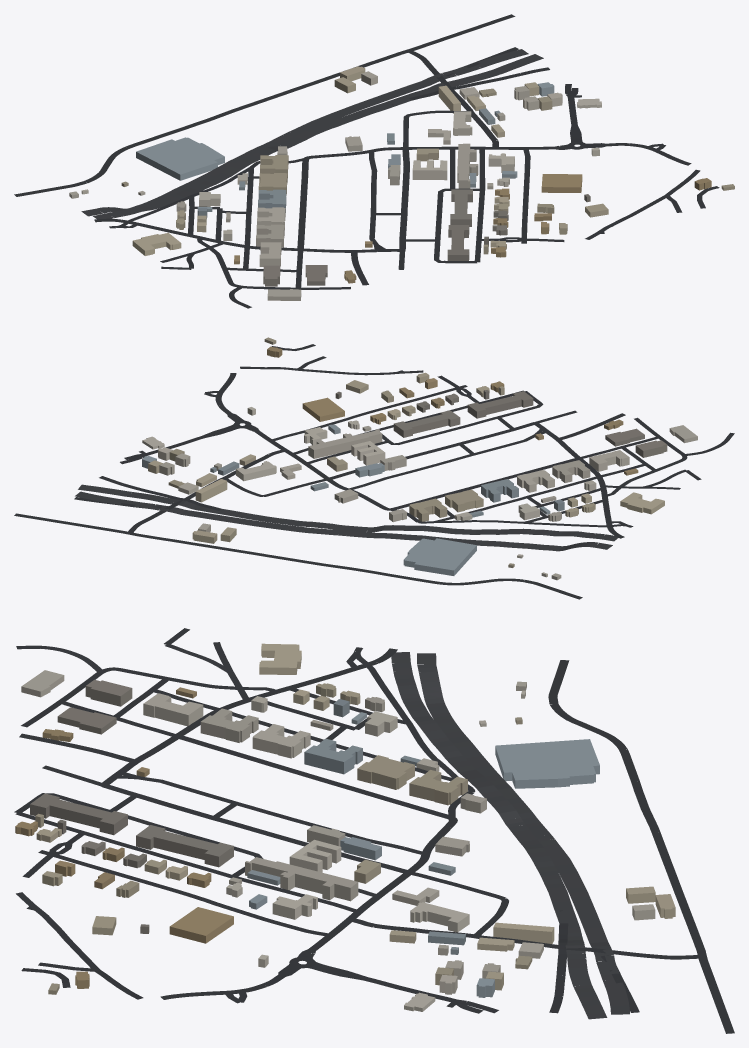
File: tile_7_9.glb
3 views of the same model, one above another, from view 1: azimuth 30°, elevation 25°; view 2: azimuth 150°, elevation 25°; view 3: azimuth 270°, elevation 25° (orthographic). The views are drawn at different scales.
Visible parts, largest first — view 1: road_7_9, bld_7_9; view 2: bld_7_9, road_7_9; view 3: bld_7_9, road_7_9.
Part boxes in pixels (x1,y1,x2,y2): road_7_9: (14, 14, 719, 308); bld_7_9: (69, 66, 734, 300); bld_7_9: (142, 337, 697, 580); road_7_9: (14, 344, 734, 599); bld_7_9: (15, 643, 675, 1011); road_7_9: (14, 628, 734, 1033).
Bounding box in the file's own units: 881 × 41.5 × 718.
